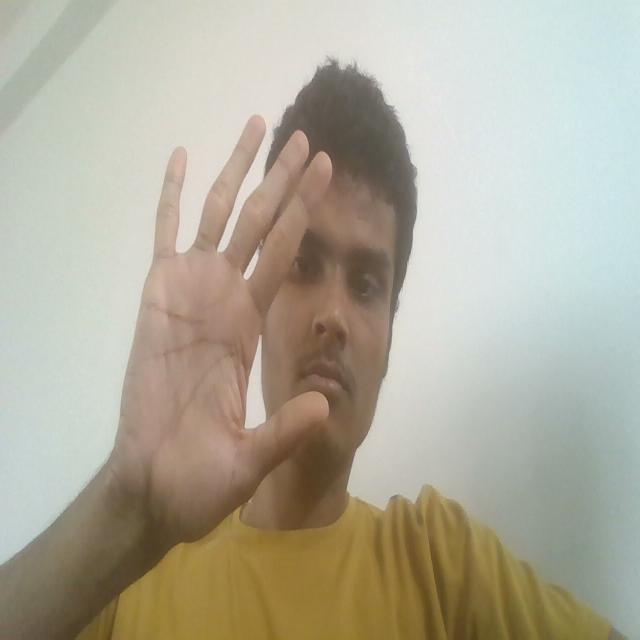Hello: (93, 101, 350, 568)
